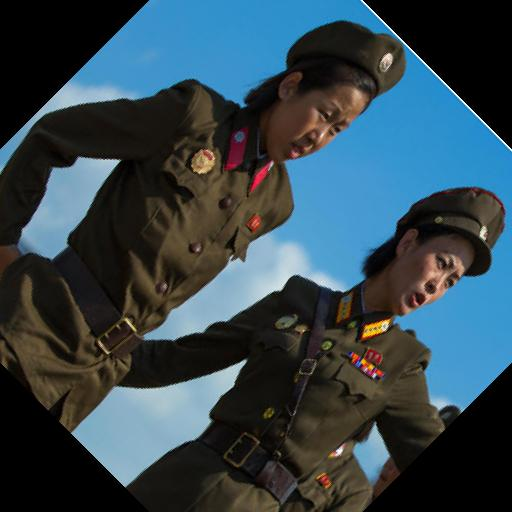north army: (15, 2, 512, 486)
